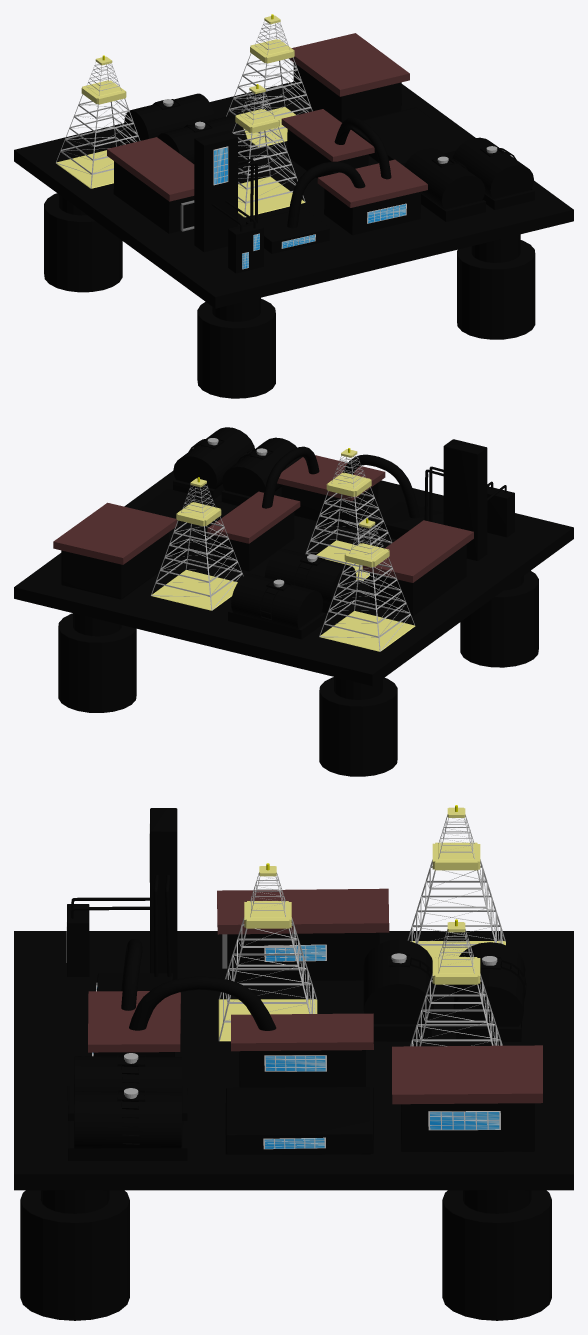
Rendered from sako.fbx.
The picture shows the model from 3 angles, top to bottom: view 1: azimuth 30°, elevation 25°; view 2: azimuth 150°, elevation 25°; view 3: azimuth 270°, elevation 25°; orthographic projection. The views are drawn at different scales.
Visible parts, largest first — view 1: pCube29, pCube38, pCylinder33, pCylinder30, pCylinder35, pCube35, pCube32, pCube4, polySurface57, pCube36, polySurface64, polySurface48 (+13 smaller); view 2: pCube29, pCube38, pCylinder35, pCylinder34, pCube35, pCylinder30, pCube36, polySurface58, polySurface64, pCube4, polySurface61, pCube32 (+12 smaller); view 3: pCube29, pCube38, pCylinder33, pCylinder34, pCube35, pCube37, pCube36, polySurface48, polySurface59, polySurface58, pCube32, polySurface21 (+15 smaller).
Part boxes in pixels (<box>): pCube29: <box>14,82,573,308</box>; pCube38: <box>289,33,409,122</box>; pCylinder33: <box>457,234,535,339</box>; pCylinder30: <box>197,297,275,398</box>; pCylinder35: <box>44,193,122,292</box>; pCube35: <box>107,137,194,233</box>; pCube32: <box>317,159,427,235</box>; pCube4: <box>194,130,237,251</box>; polySurface57: <box>404,148,485,221</box>; pCube36: <box>281,109,374,178</box>; polySurface64: <box>56,80,140,188</box>; polySurface48: <box>452,137,534,209</box>; pCube29: <box>14,471,573,686</box>; pCube38: <box>53,502,177,599</box>; pCylinder35: <box>319,677,397,776</box>; pCylinder34: <box>58,613,136,712</box>; pCube35: <box>362,520,473,615</box>; pCylinder30: <box>460,570,538,667</box>; pCube36: <box>207,491,300,571</box>; polySurface58: <box>228,573,325,639</box>; polySurface64: <box>319,543,415,651</box>; pCube4: <box>443,439,487,560</box>; polySurface61: <box>150,502,243,610</box>; pCube32: <box>277,455,385,528</box>; pCube29: <box>14,931,573,1190</box>; pCube38: <box>392,1045,542,1151</box>; pCylinder33: <box>20,1190,129,1320</box>; pCylinder34: <box>442,1190,551,1320</box>; pCube35: <box>217,888,389,980</box>; pCube37: <box>225,1087,373,1154</box>; pCube36: <box>231,1013,373,1087</box>; polySurface48: <box>68,1088,187,1160</box>; polySurface59: <box>363,939,435,1041</box>; polySurface58: <box>453,942,526,1041</box>; pCube32: <box>88,991,180,1056</box>; polySurface21: <box>218,901,317,1041</box>.
Size of the model in its own units: 14.59 by 8.91 by 14.19.
16 materials, 1 textured.
